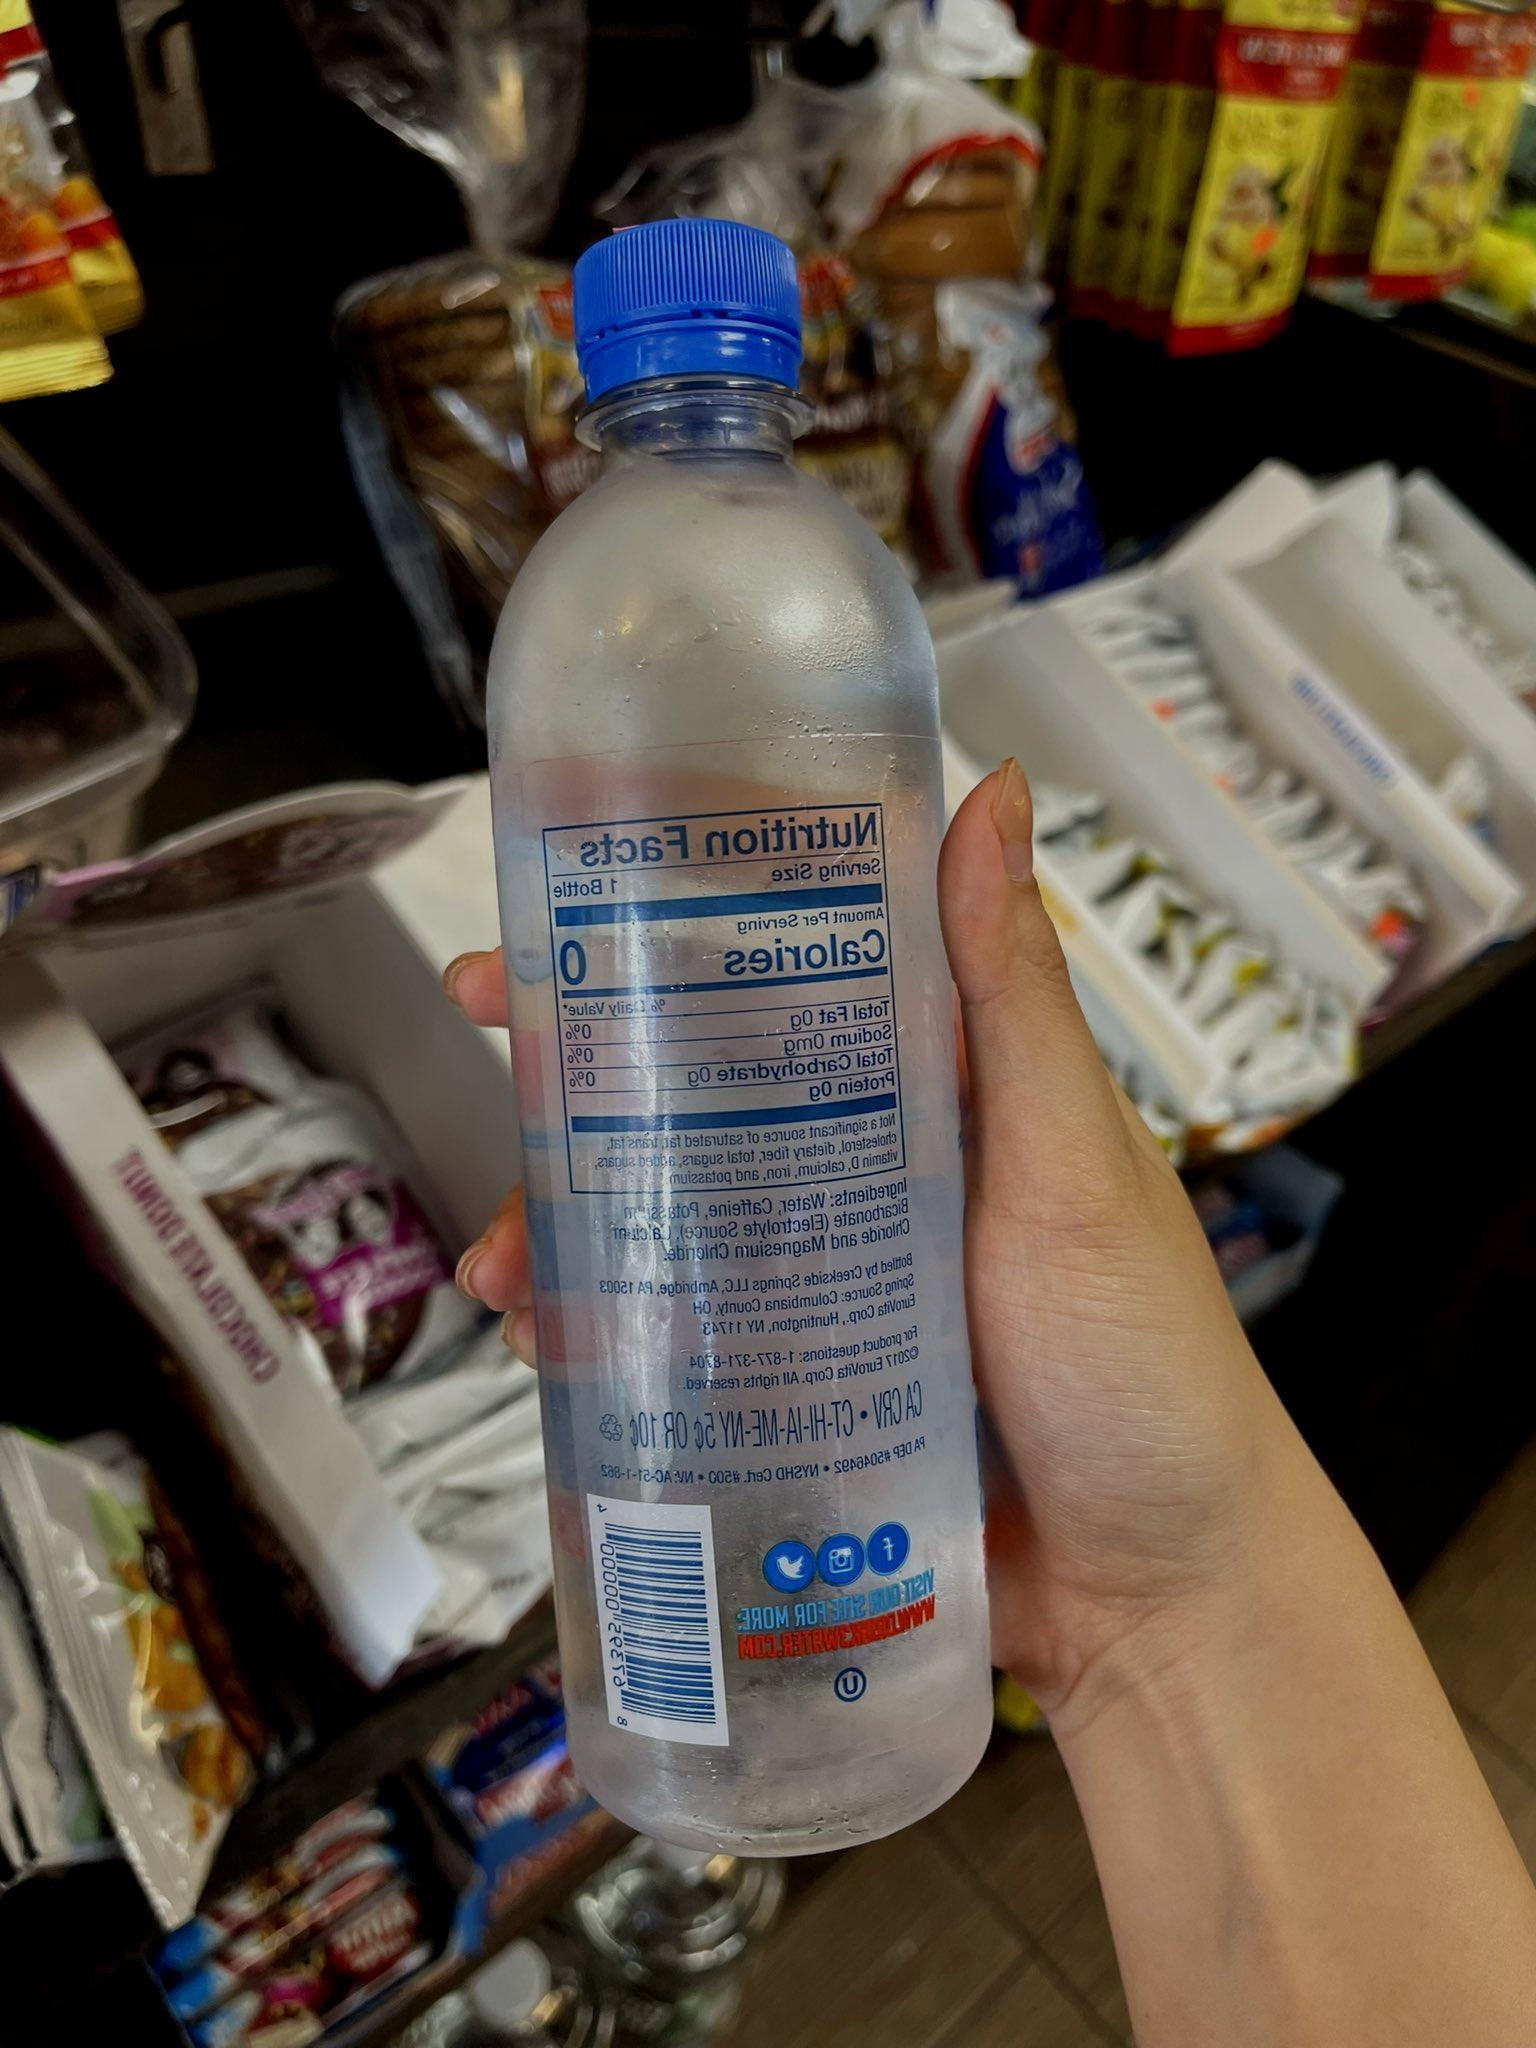bottle: (458, 181, 1025, 1903)
